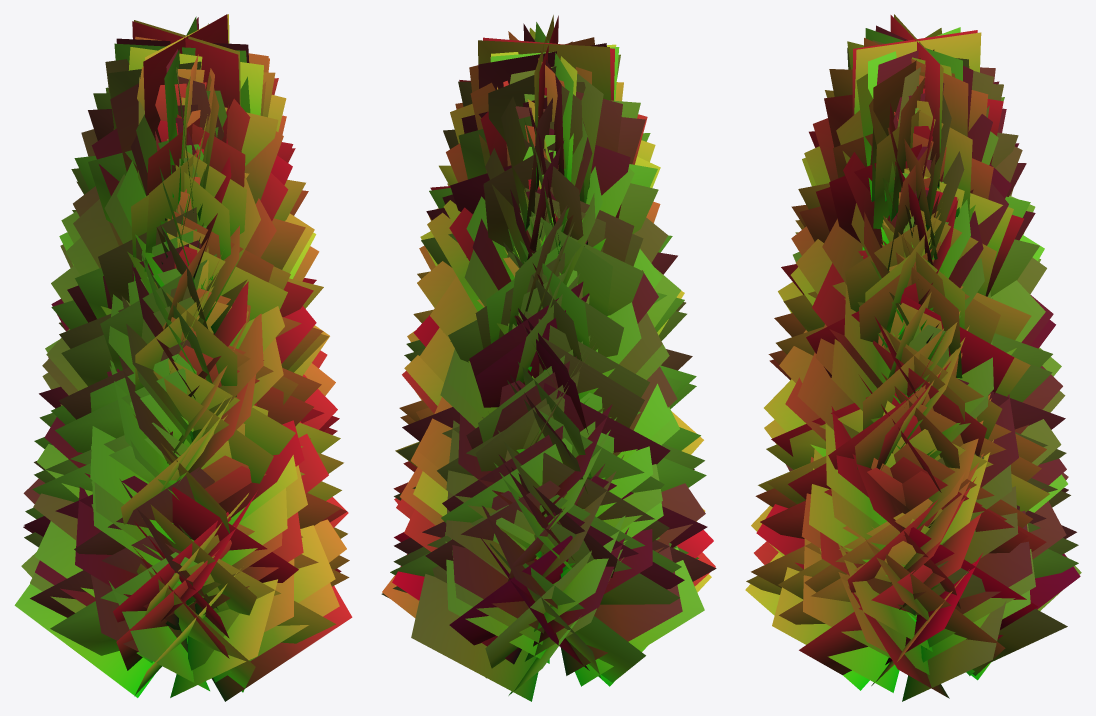
File: URP_P4_Tree_7_LOD_2.fbx
3 renders of one model, left to right at view 1: azimuth 30°, elevation 25°; view 2: azimuth 150°, elevation 25°; view 3: azimuth 270°, elevation 25°, orthographic.
Parts seen in each view (by area): view 1: Tree_7_LOD_2; view 2: Tree_7_LOD_2; view 3: Tree_7_LOD_2.
Part boxes in pixels (left/top/right/bottom): Tree_7_LOD_2: left=14, top=14, right=352, bottom=701; Tree_7_LOD_2: left=381, top=15, right=716, bottom=701; Tree_7_LOD_2: left=745, top=14, right=1081, bottom=701.
Size of the model in its own units: 214 by 447 by 214.
